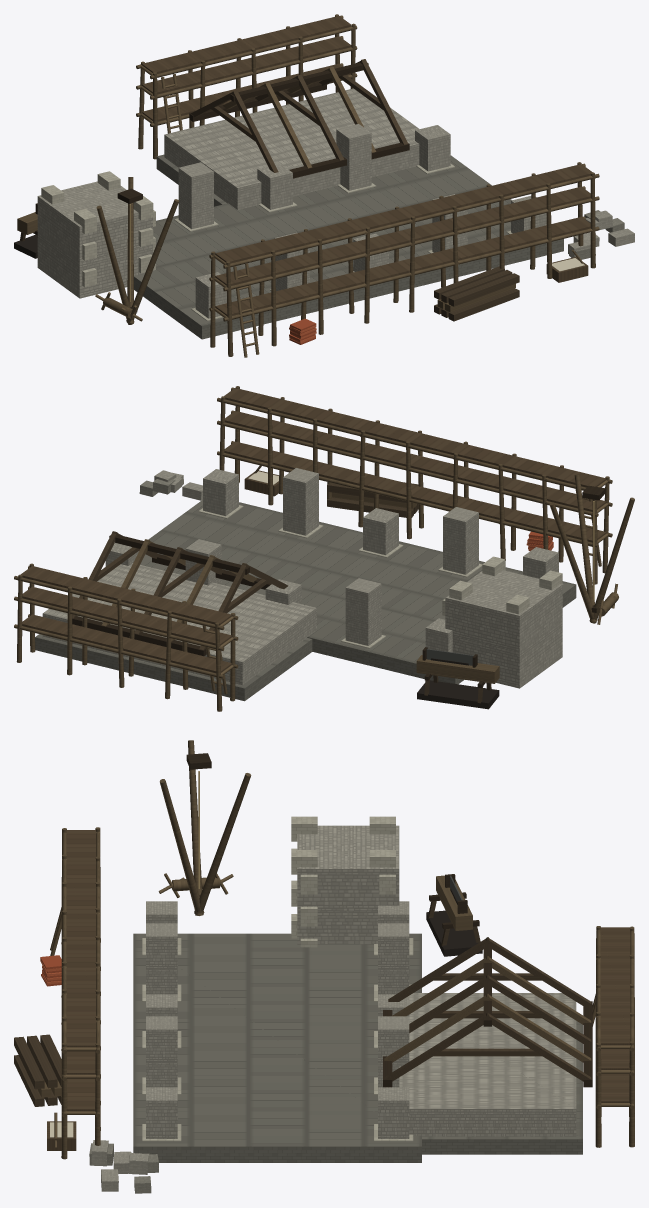
File: rat-3-construction.glb
3 views of the same model, one above another, from view 1: azimuth 30°, elevation 25°; view 2: azimuth 150°, elevation 25°; view 3: azimuth 270°, elevation 25° (orthographic). The views are drawn at different scales.
Size of the model in its own units: 35.85 by 9.27 by 31.62.
28 materials, 21 textured.
